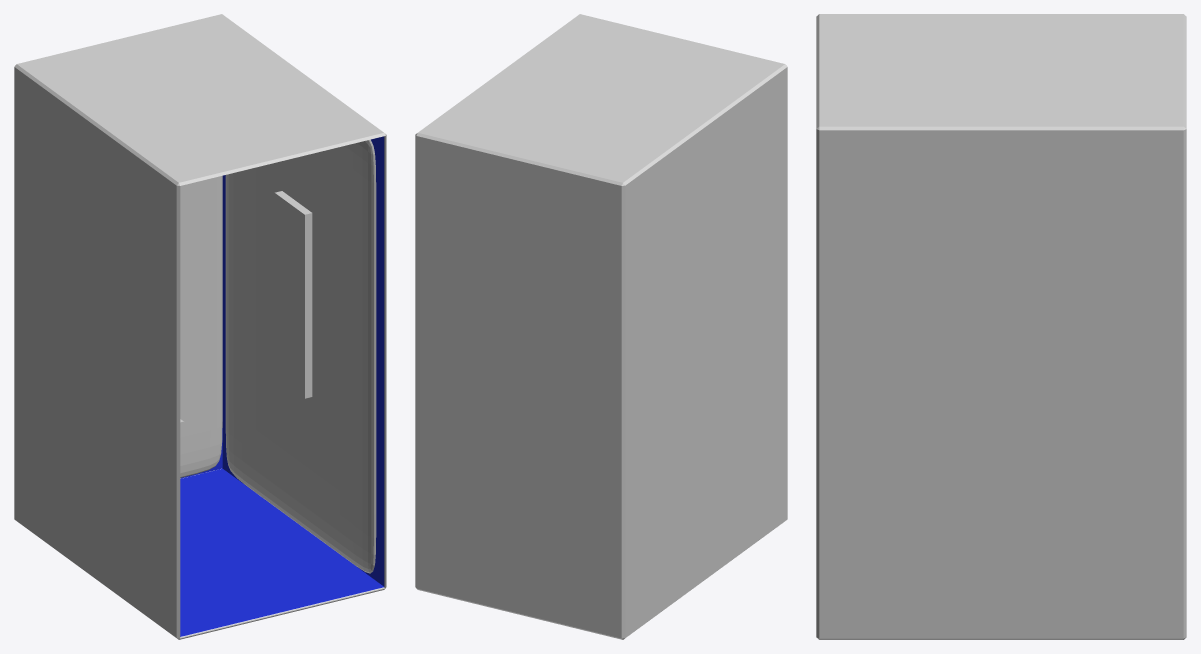
Rendered from phoenix_config.glb.
3 renders of one model, left to right at view 1: azimuth 30°, elevation 25°; view 2: azimuth 150°, elevation 25°; view 3: azimuth 270°, elevation 25°, orthographic. The views are drawn at different scales.
Visible parts, largest first — view 1: Shell, WallPanel, Floor, COP, WallShadow; view 2: Shell; view 3: Shell.
Part boxes in pixels (x1,y1,x2,y2): Shell: (14, 14, 386, 639); WallPanel: (180, 139, 376, 573); Floor: (180, 468, 383, 636); COP: (274, 191, 312, 398); WallShadow: (180, 136, 384, 586); Shell: (415, 14, 787, 639); Shell: (816, 14, 1186, 639).
Bounding box in the file's own units: 0.971 × 2.02 × 1.32.
